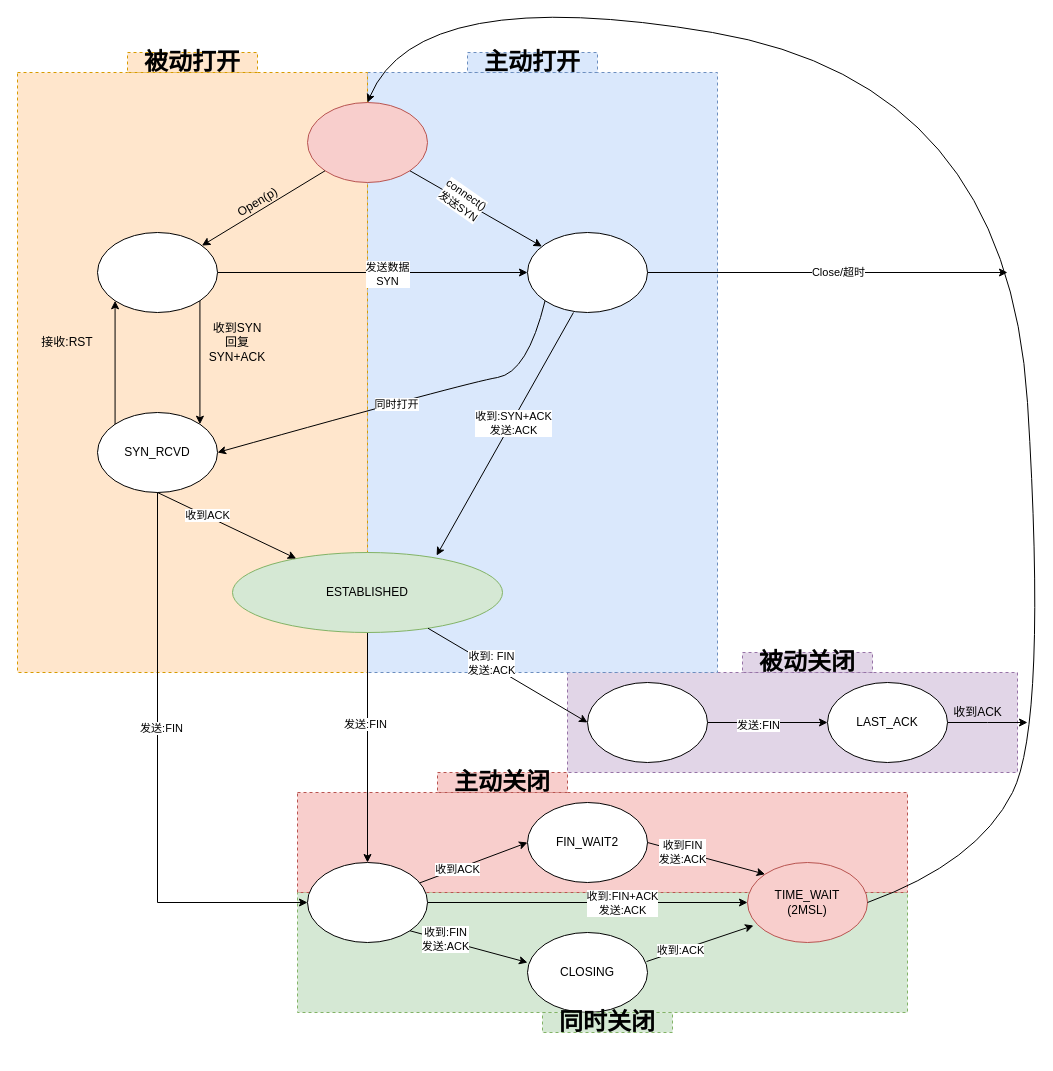
Image size: 1053x1071. Some labels were removed from this diagram. Each missing label, with the box of its shape:
CLOSE_WAIT: (586, 682, 708, 762)
CLOSED: (306, 102, 428, 182)
FIN_WAIT1: (306, 862, 428, 942)
LISTEN: (96, 232, 218, 312)
SYN_SENT: (526, 232, 648, 312)
